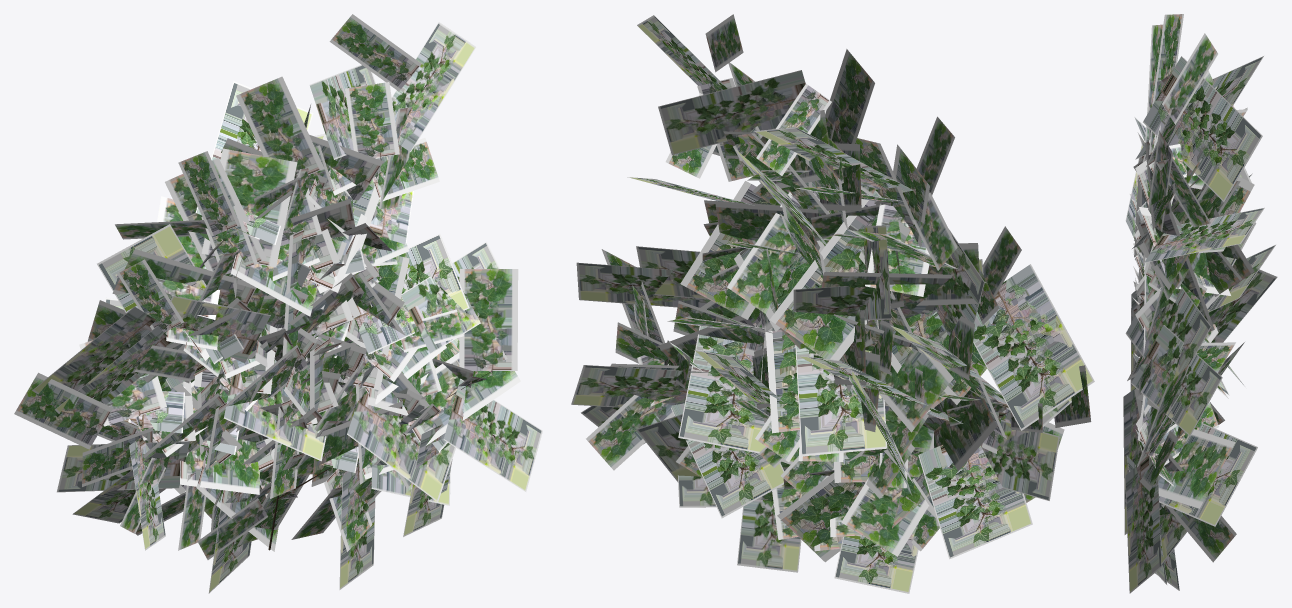
The model's file is Ivy6.fbx.
3 views of the same model, side by side, from view 1: azimuth 30°, elevation 25°; view 2: azimuth 150°, elevation 25°; view 3: azimuth 270°, elevation 25° (orthographic). The views are drawn at different scales.
Parts seen in each view (by area): view 1: Ivy6; view 2: Ivy6; view 3: Ivy6.
Boxes of the visible parts, x1=… form: Ivy6: x1=14, y1=14, x2=542, y2=593; Ivy6: x1=571, y1=14, x2=1094, y2=593; Ivy6: x1=1123, y1=14, x2=1277, y2=593.
Size of the model in its own units: 410 by 421 by 105.
